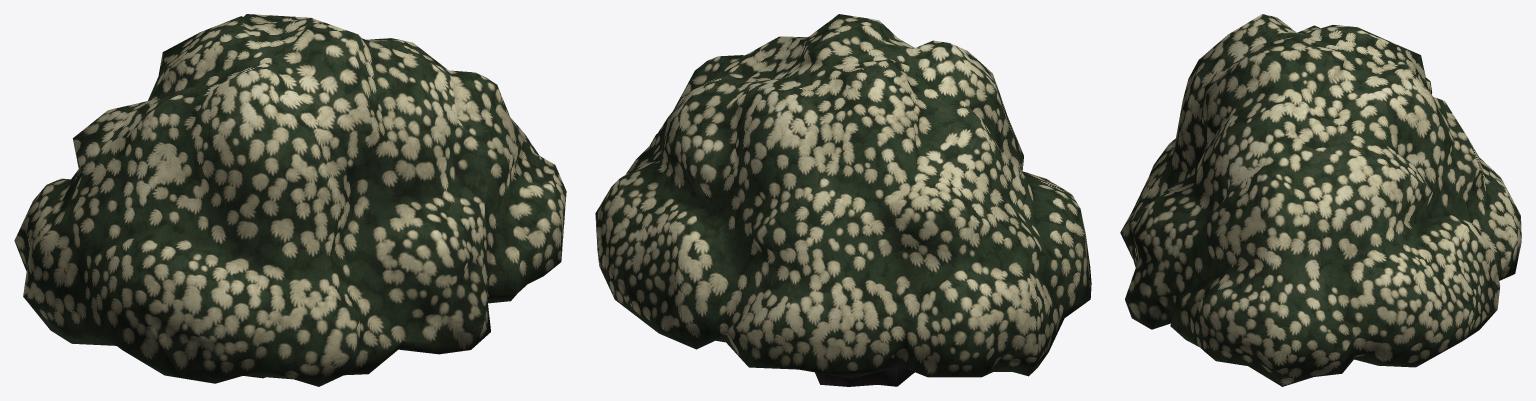
File: tree-bocote-GB.fbx
The picture shows the model from 3 angles, left to right: view 1: azimuth 30°, elevation 25°; view 2: azimuth 150°, elevation 25°; view 3: azimuth 270°, elevation 25°; orthographic projection. The views are drawn at different scales.
Visible parts, largest first — view 1: BocoteTree_Mesh; view 2: BocoteTree_Mesh; view 3: BocoteTree_Mesh.
Boxes of the visible parts, x1,y1,x2,y2 form: BocoteTree_Mesh: (14,14,566,386); BocoteTree_Mesh: (595,14,1091,386); BocoteTree_Mesh: (1120,14,1521,386).
Bounding box in the file's own units: 385 × 252 × 308.
1 material, 1 textured.
